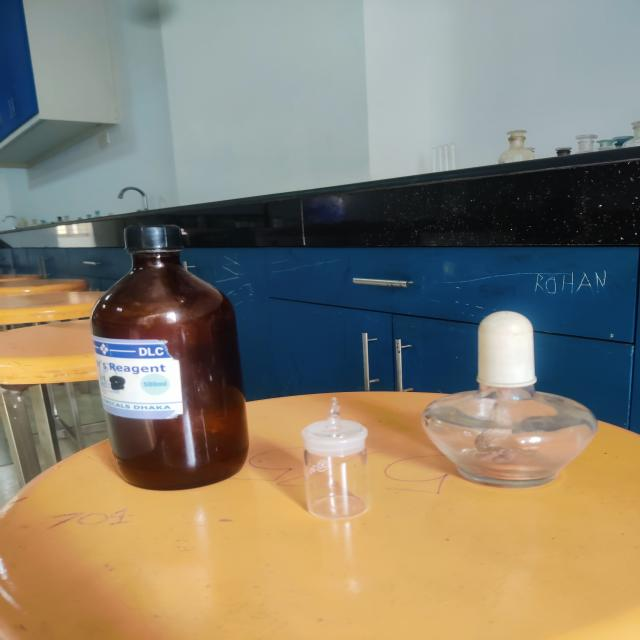Nessler_Reagent_Bottle: (75, 215, 262, 494)
Spirit_Lamp: (402, 300, 610, 502)
Weighing_Bottle: (288, 387, 383, 532)
